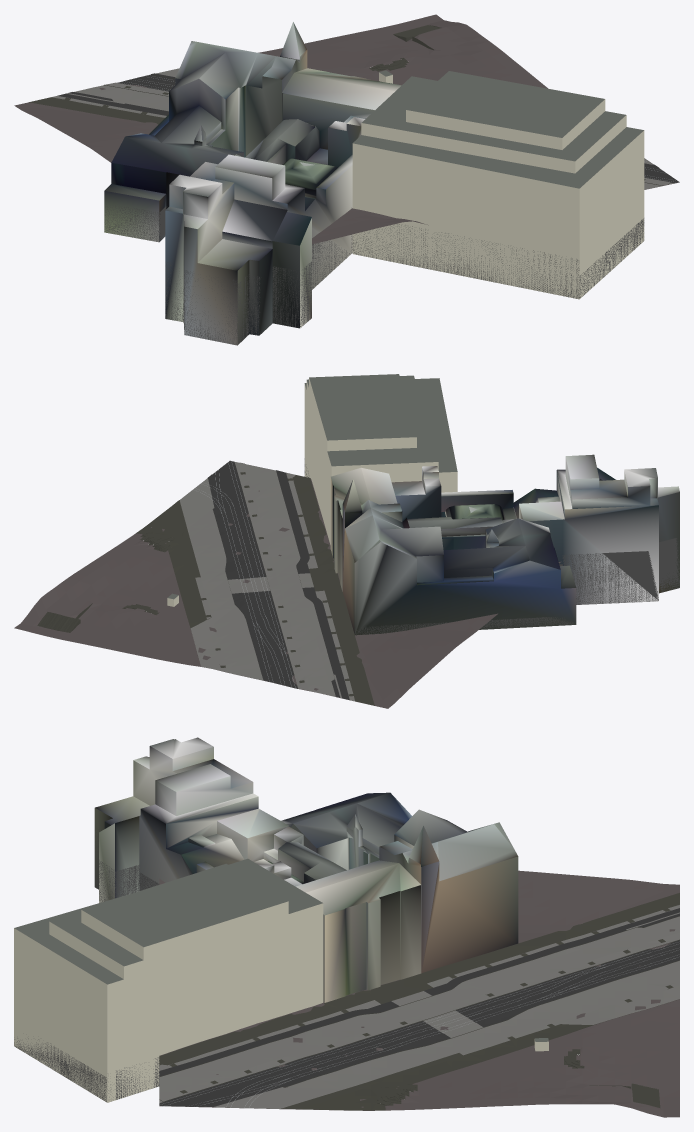
3 renders of one model, top to bottom at view 1: azimuth 30°, elevation 25°; view 2: azimuth 150°, elevation 25°; view 3: azimuth 270°, elevation 25°, orthographic. The views are drawn at different scales.
Parts seen in each view (by area): view 1: c_m06_p00; view 2: c_m06_p00; view 3: c_m06_p00.
Part boxes in pixels (x1,y1,x2,y2): c_m06_p00: (14,14,679,345); c_m06_p00: (14,374,679,708); c_m06_p00: (14,737,679,1117).
Size of the model in its own units: 152 by 46.56 by 164.
